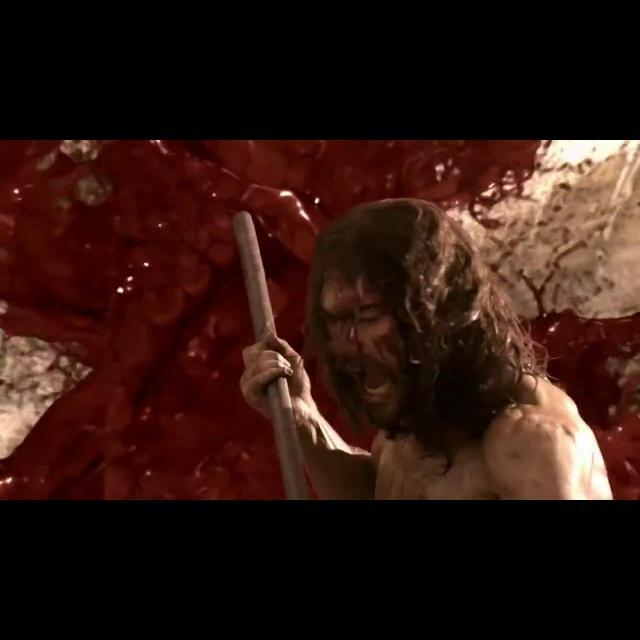blood: (0, 140, 640, 499)
